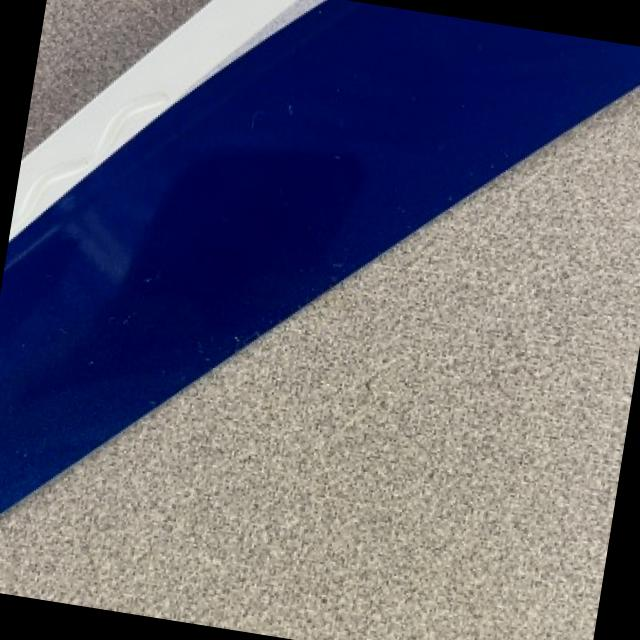healthy: (0, 88, 640, 640)
